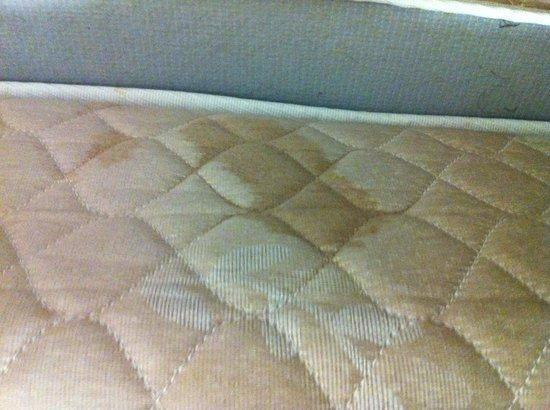Bed-Mattress: (1, 77, 550, 410)
